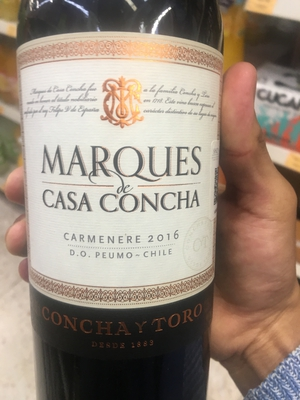marques de casa concha carmenere: (19, 6, 227, 400)
